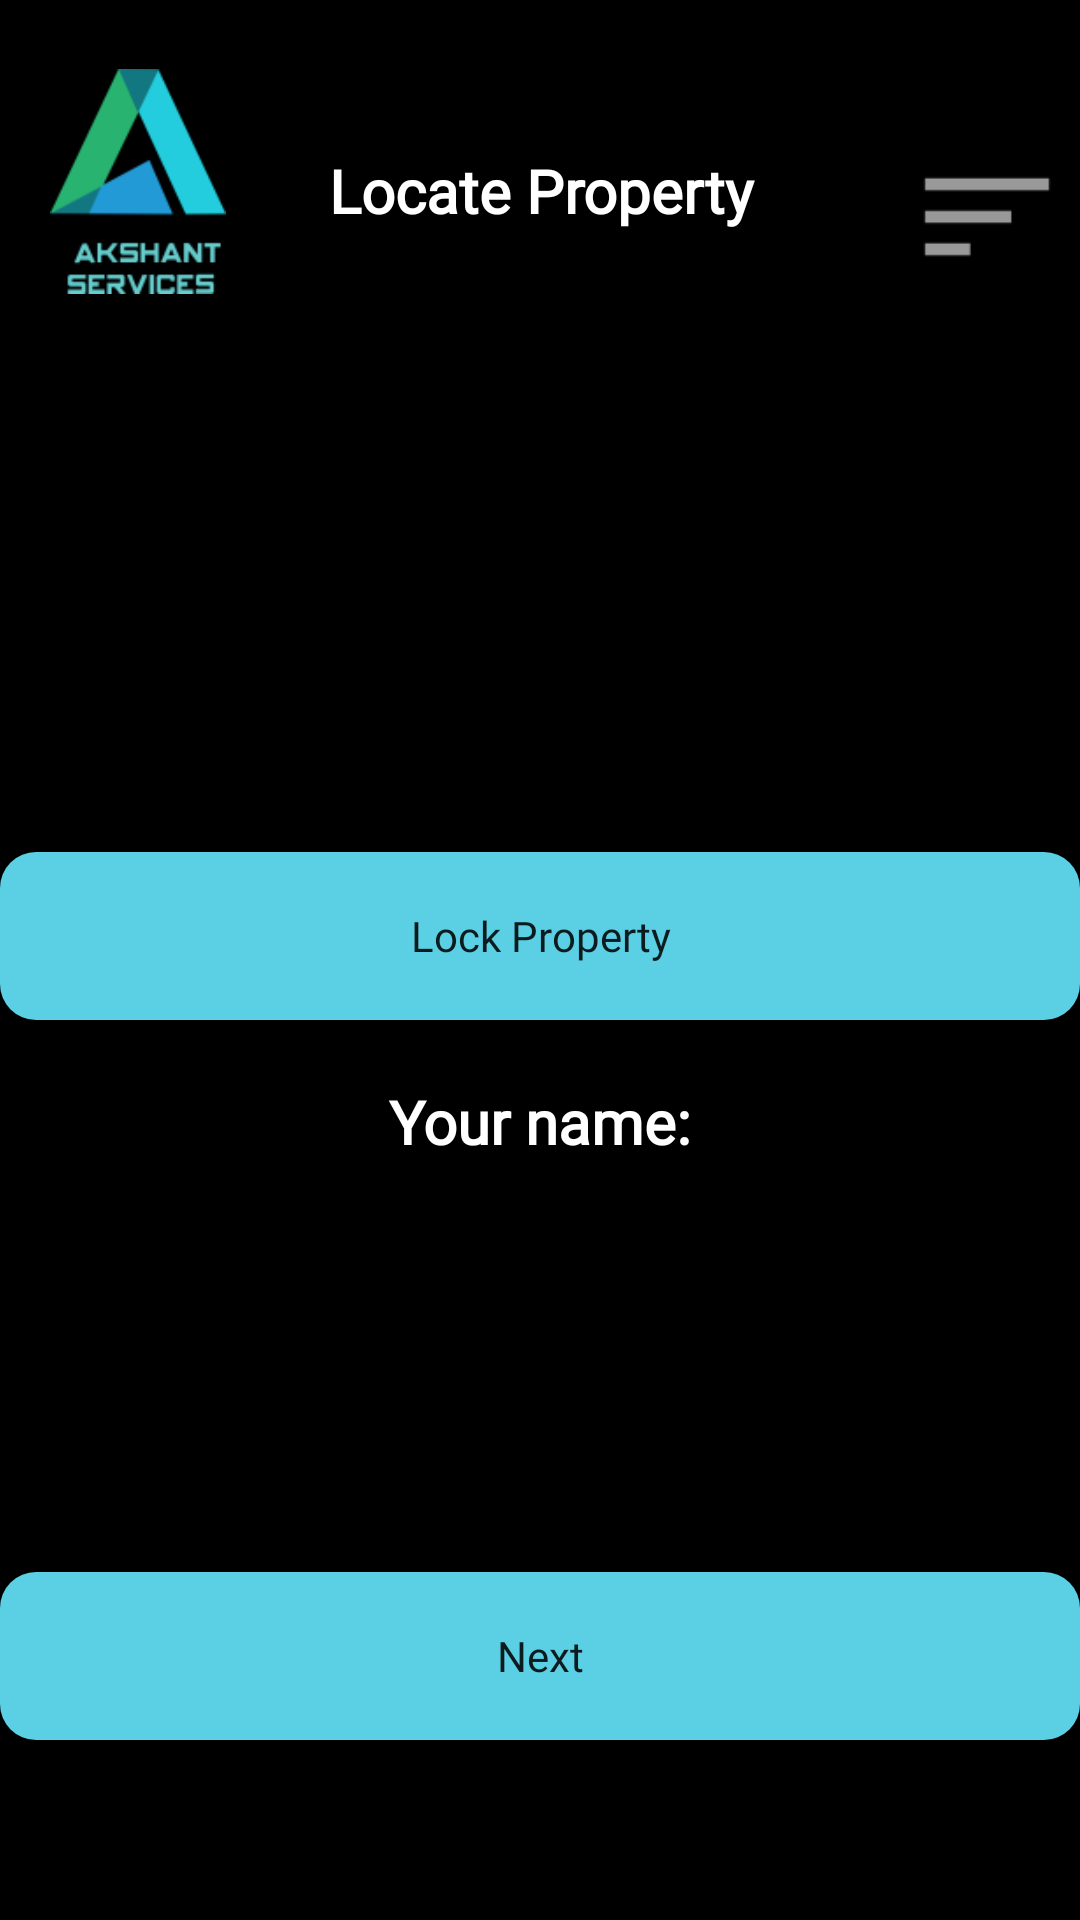

Icon bounding boxes for this 1080*1920 phone screenshot, format {"left": x1, "top": y1, "right": x2, "bottom": y2}:
sort by size: {"left": 924, "top": 177, "right": 1050, "bottom": 256}
